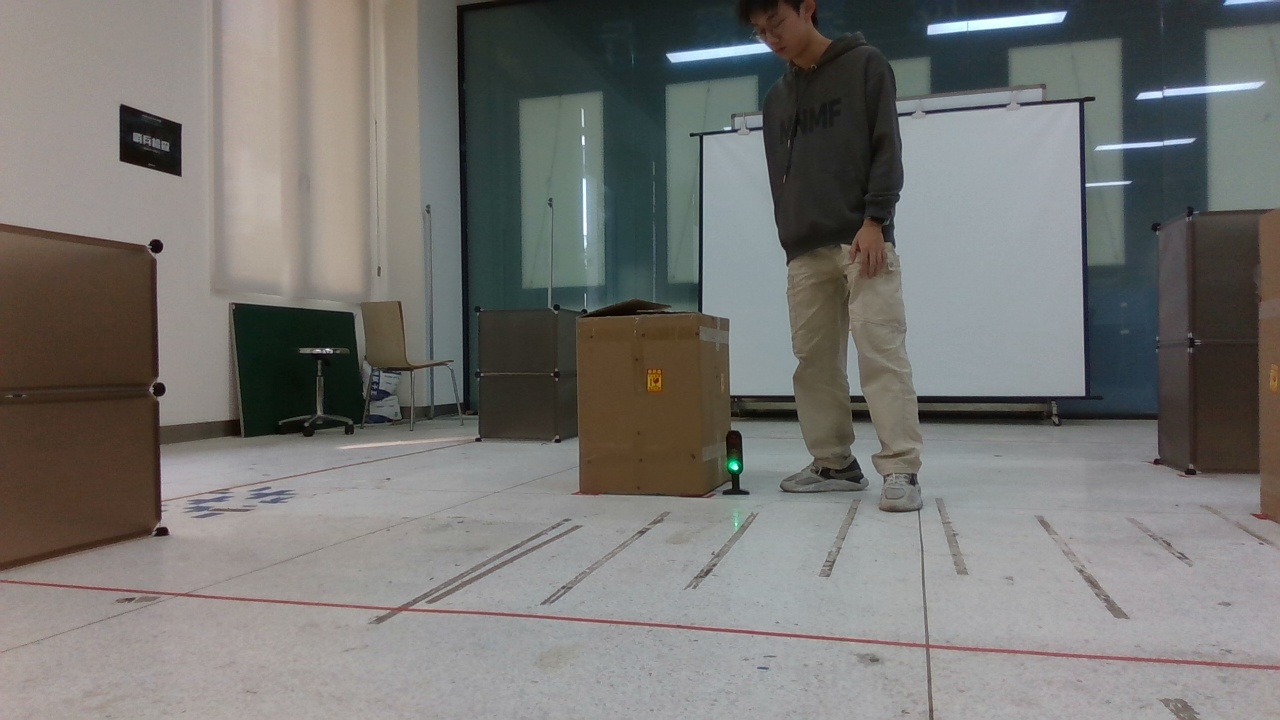green_light: (720, 423, 761, 499)
